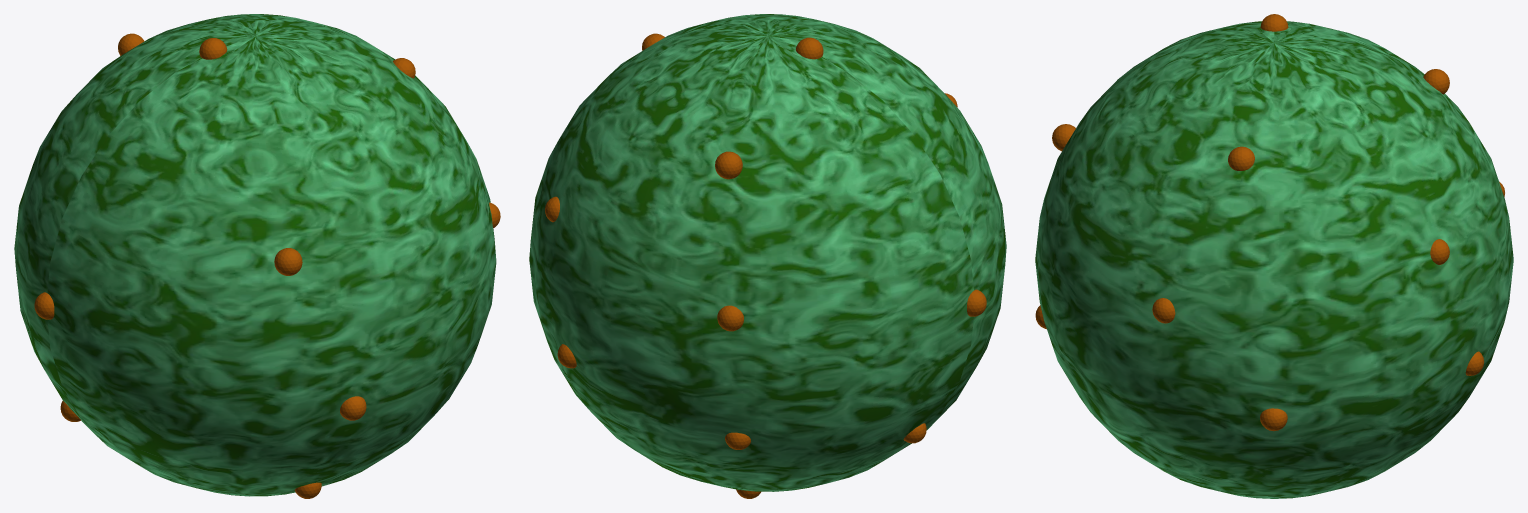
The model's file is lysosome-transformed.glb.
3 renders of one model, left to right at view 1: azimuth 30°, elevation 25°; view 2: azimuth 150°, elevation 25°; view 3: azimuth 270°, elevation 25°, orthographic.
Visible parts, largest first — view 1: Lysosomes-material, Icosphere.010; view 2: Lysosomes-material, Icosphere.007, Icosphere.011; view 3: Lysosomes-material, Icosphere.017, Icosphere.019.
Boxes of the visible parts, <box> form: Lysosomes-material: <box>14,14,496,496</box>; Icosphere.010: <box>274,248,302,275</box>; Lysosomes-material: <box>529,14,1006,491</box>; Icosphere.007: <box>715,151,742,179</box>; Icosphere.011: <box>717,305,743,331</box>; Lysosomes-material: <box>1035,21,1513,498</box>; Icosphere.017: <box>1228,146,1254,170</box>; Icosphere.019: <box>1260,408,1287,431</box>.
Bounding box in the file's own units: 2.05 × 2.03 × 2.
2 materials, 1 textured.
